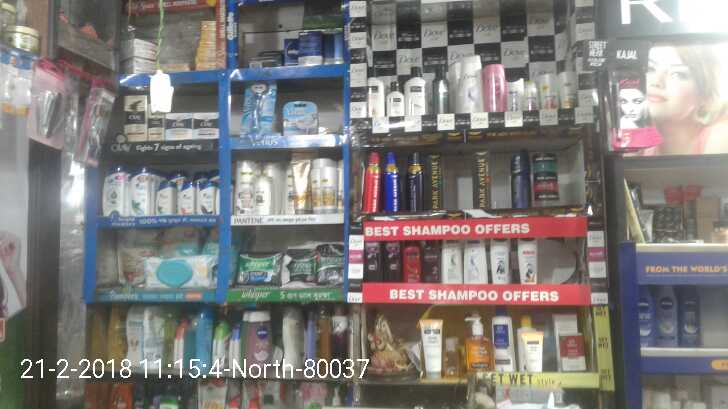venus: (242, 86, 278, 132), (283, 101, 319, 132)
